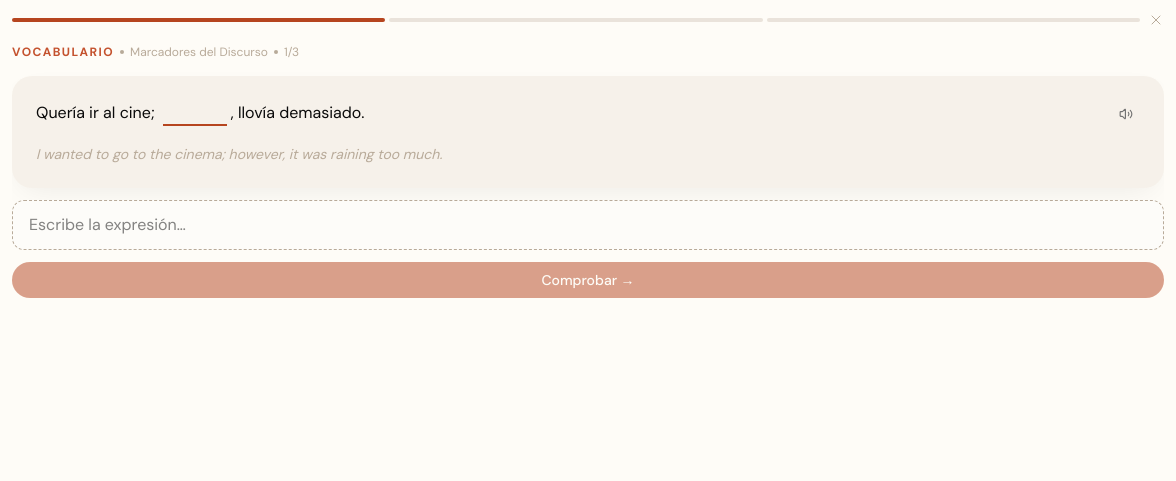
Test: VocabSession › shows incorrect feedback with try again button
Step 1. Type "por lo tanto" into the field with placeholder "Escribe la expresión…" → [588, 225], box [29, 213, 1147, 237]
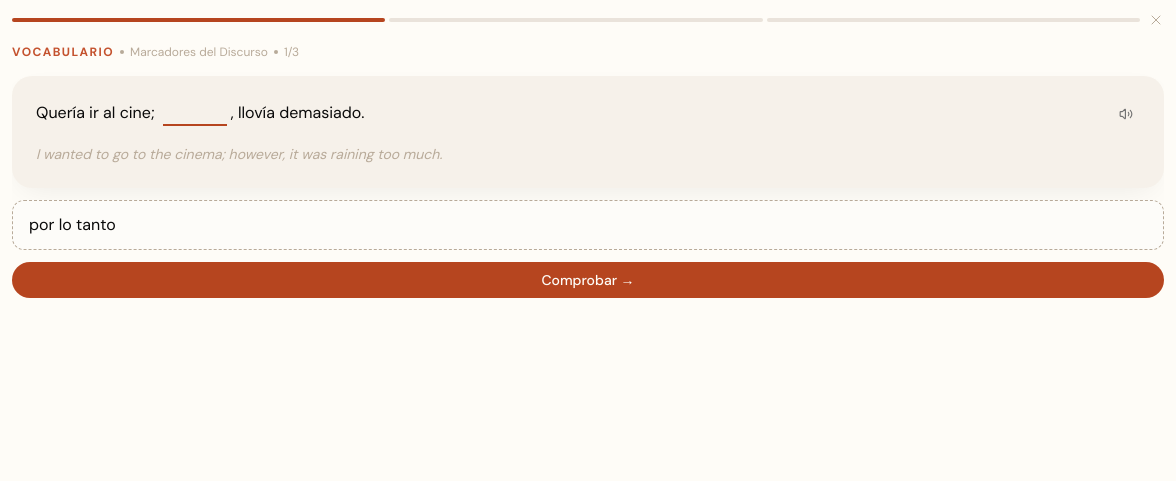
Step 2. Click the button "Comprobar →" → [588, 280], box [12, 262, 1164, 298]
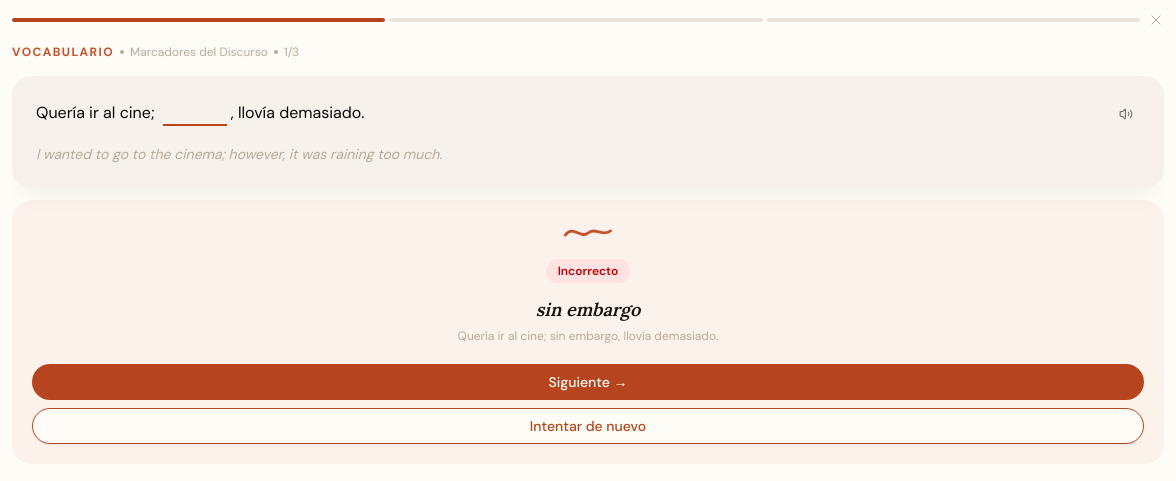
Expected: the field with placeholder "Escribe la expresión" is not shown
Expected: the text "Incorrecto" is shown, [546, 259, 630, 283]
Expected: the button with test id "try-again-btn" is shown, [32, 408, 1144, 444]
